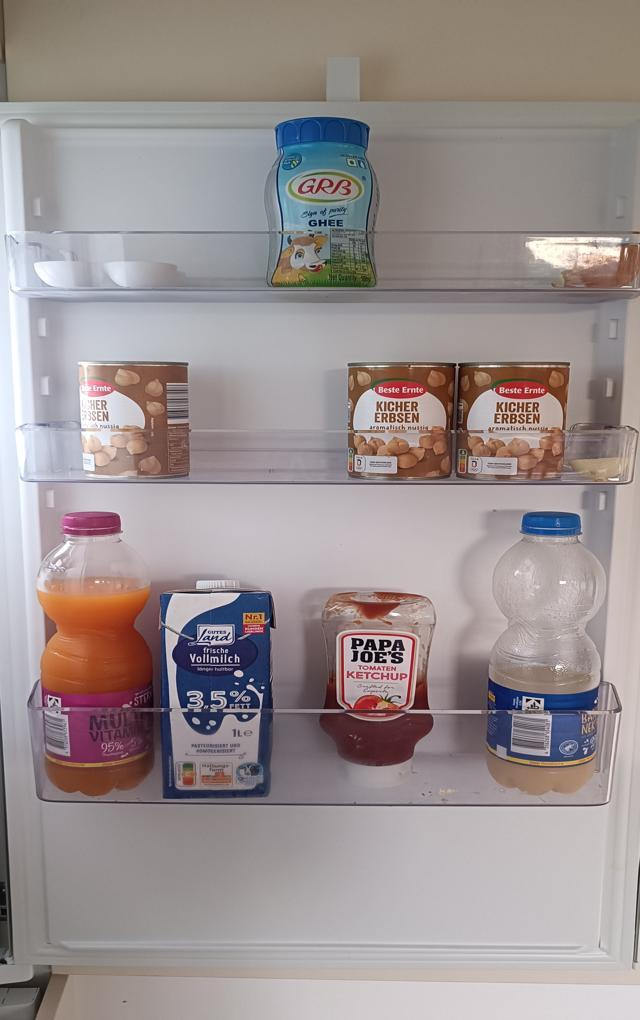bananajuice: (492, 505, 606, 794)
chickpeas: (77, 361, 191, 477), (459, 363, 568, 482), (347, 362, 454, 480)
ghee: (265, 116, 380, 289)
milk: (161, 569, 277, 799)
orangejuice: (35, 511, 159, 796)
tomatoketchup: (315, 587, 438, 784)
